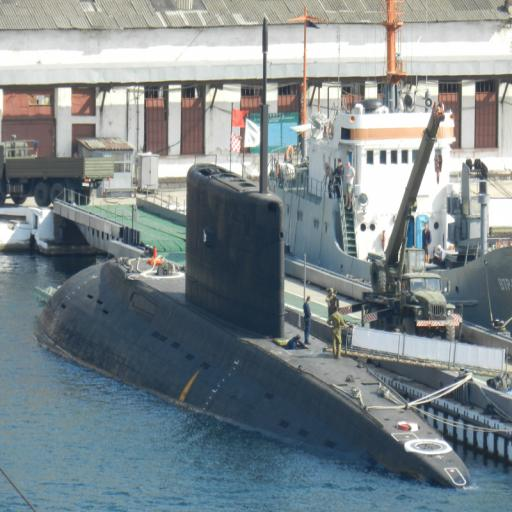submarine: (37, 154, 470, 489)
